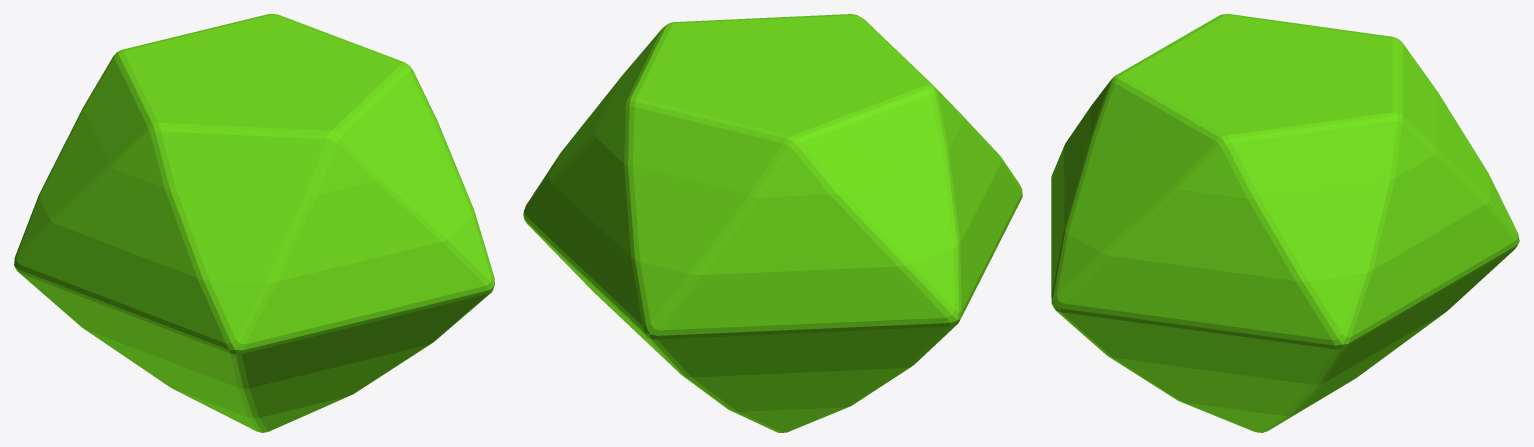
3 views of the same model, side by side, from view 1: azimuth 30°, elevation 25°; view 2: azimuth 150°, elevation 25°; view 3: azimuth 270°, elevation 25° (orthographic). The views are drawn at different scales.
Parts seen in each view (by area): view 1: model_0.099; view 2: model_0.099; view 3: model_0.099.
Boxes of the visible parts, x1,y1,x2,y2 form: model_0.099: (14,14,494,432); model_0.099: (523,14,1022,432); model_0.099: (1051,14,1519,432).
Bounding box in the file's own units: 3.81 × 3.06 × 3.64.
